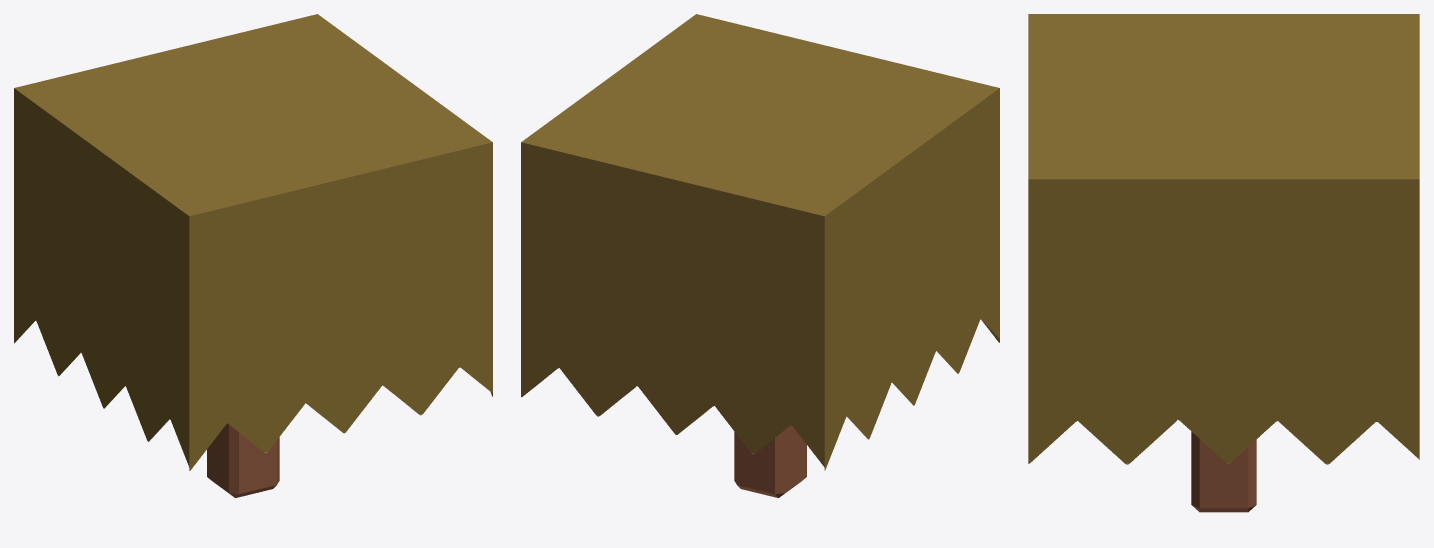
File: Bush 2.fbx
3 renders of one model, left to right at view 1: azimuth 30°, elevation 25°; view 2: azimuth 150°, elevation 25°; view 3: azimuth 270°, elevation 25°, orthographic. The views are drawn at different scales.
Visible parts, largest first — view 1: Bush_1, Trunk; view 2: Bush_1, Trunk; view 3: Bush_1, Trunk.
Boxes of the visible parts, <box> form: Bush_1: <box>14,14,492,470</box>; Trunk: <box>207,423,279,497</box>; Bush_1: <box>521,14,999,470</box>; Trunk: <box>734,425,806,497</box>; Bush_1: <box>1028,14,1419,464</box>; Trunk: <box>1191,432,1256,512</box>.
Size of the model in its own units: 0.6 by 0.695 by 0.6.
1 material, 1 textured.
